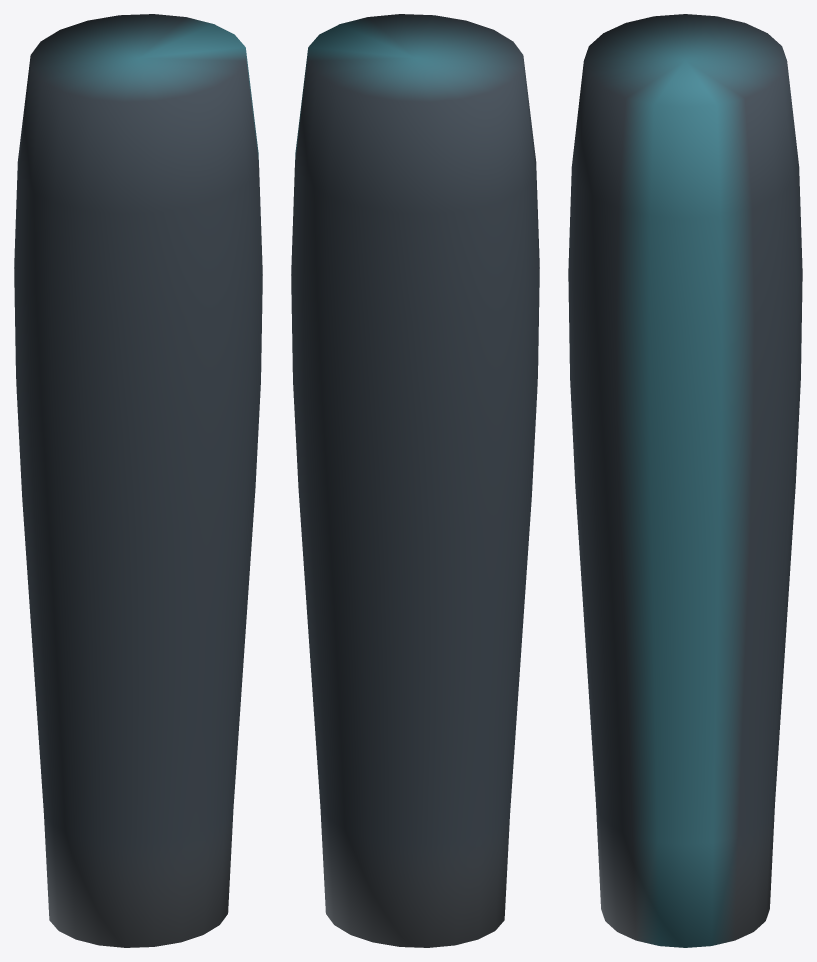
File: pants_leg_left.glb
The picture shows the model from 3 angles, left to right: view 1: azimuth 30°, elevation 25°; view 2: azimuth 150°, elevation 25°; view 3: azimuth 270°, elevation 25°; orthographic projection.
Visible parts, largest first — view 1: pants_leg_left2; view 2: pants_leg_left2; view 3: pants_leg_left2.
Boxes of the visible parts, left/top/right/bottom form: pants_leg_left2: left=14, top=14, right=262, bottom=947; pants_leg_left2: left=291, top=14, right=539, bottom=947; pants_leg_left2: left=568, top=14, right=802, bottom=947.
Size of the model in its own units: 0.272 by 1 by 0.2502.
